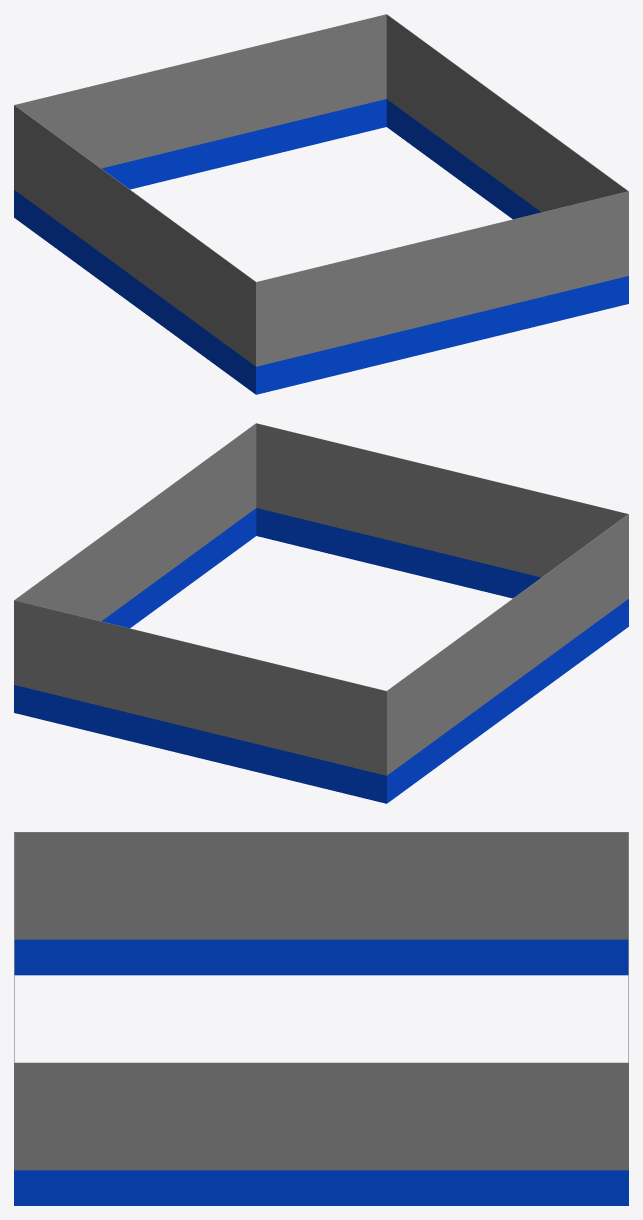
File: Walls.FBX
The picture shows the model from 3 angles, top to bottom: view 1: azimuth 30°, elevation 25°; view 2: azimuth 150°, elevation 25°; view 3: azimuth 270°, elevation 25°; orthographic projection. The views are drawn at different scales.
Parts seen in each view (by area): view 1: Box123; view 2: Box123; view 3: Box123.
Boxes of the visible parts, box(x1,y1,x2,y2) form: Box123: box(14, 14, 628, 394); Box123: box(14, 423, 628, 803); Box123: box(14, 832, 628, 1205).
Bounding box in the file's own units: 3089 × 891 × 3475.
